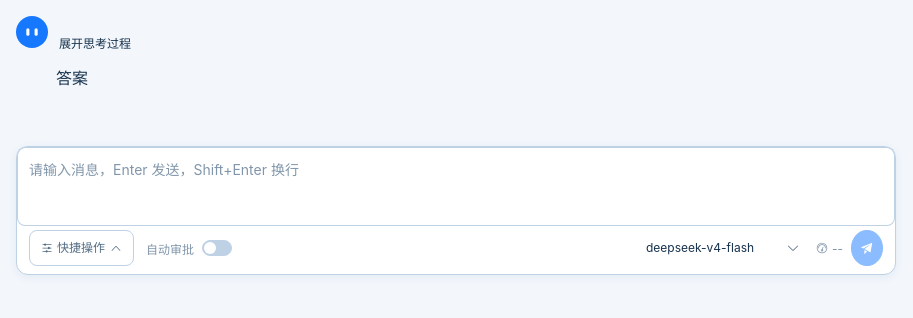
Scenario: AgentChat › renders collapsed reasoning block for assistant messages and expands on click
Click the button with class "reasoning-toggle": point(95, 44) [56,26,134,62]
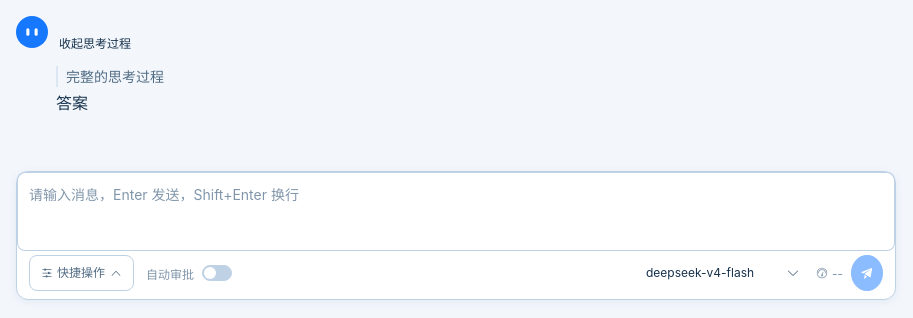
Now the text "完整的思考过程" is shown, box [56,66,164,87]
Now the text with class "reasoning-content" reads "完整的思考过程", box [66,68,164,85]
